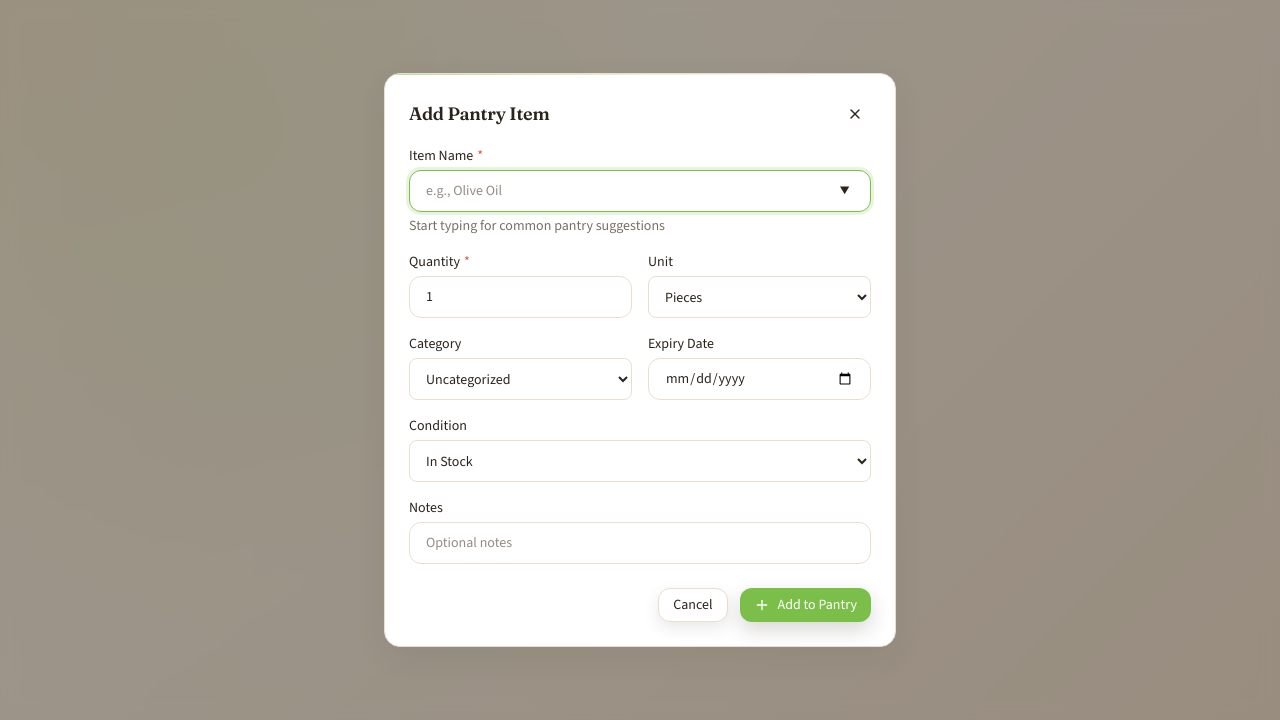
Scenario: AddPantryItemModal › auto-suggests category from item name keywords
Type "onion" into the field labelled "Item Name*" at (640, 191), box x1=409 y1=170 x2=871 y2=212
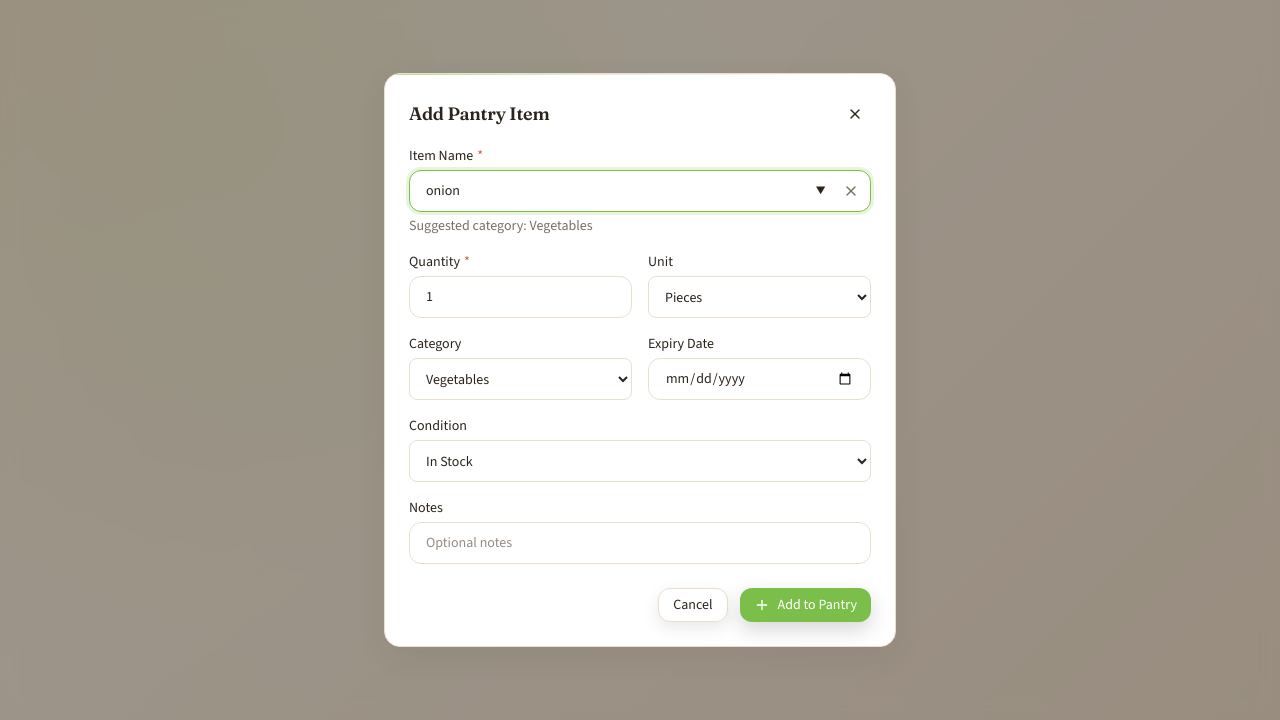
expect the dropdown labelled "Category" shows "Vegetables": met, box x1=409 y1=358 x2=632 y2=400
